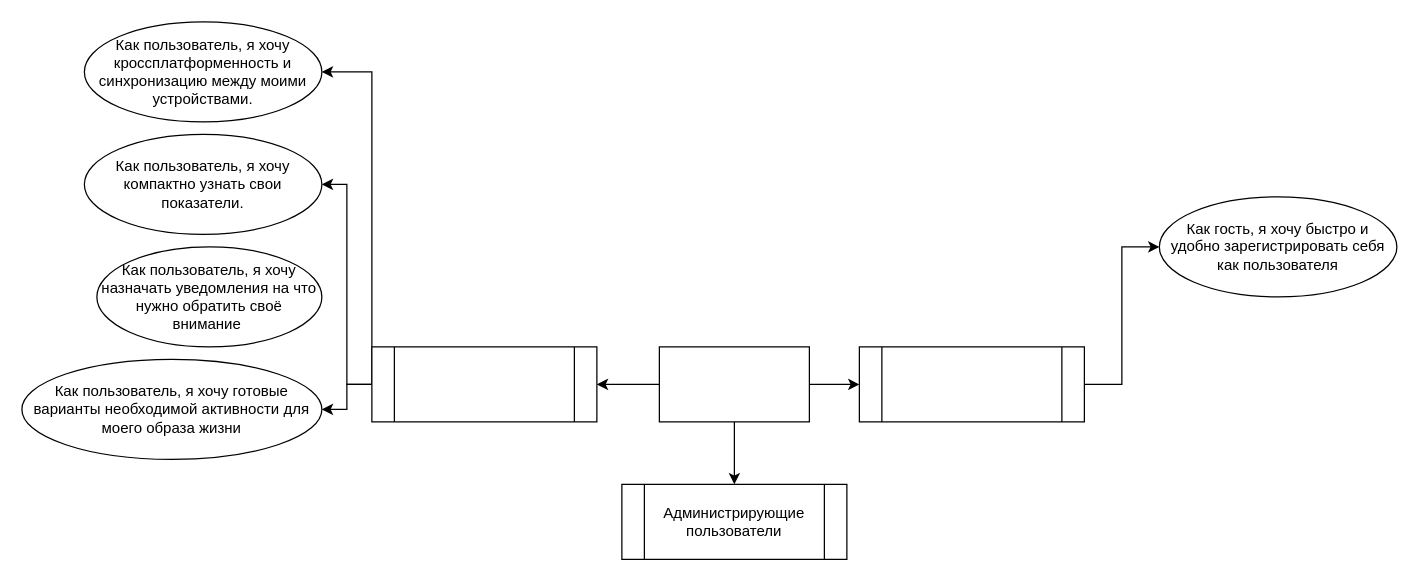
The diagram is 1419 pixels wide and 581 high, and some of its shapes have lost their labels. Each missing label, with the centre of its shape:
"Гостевые пользователи" goes at (x=971, y=384).
"Зарегистрированные пользователи" goes at (x=484, y=384).
"Пользовательские истории" goes at (x=733, y=384).
